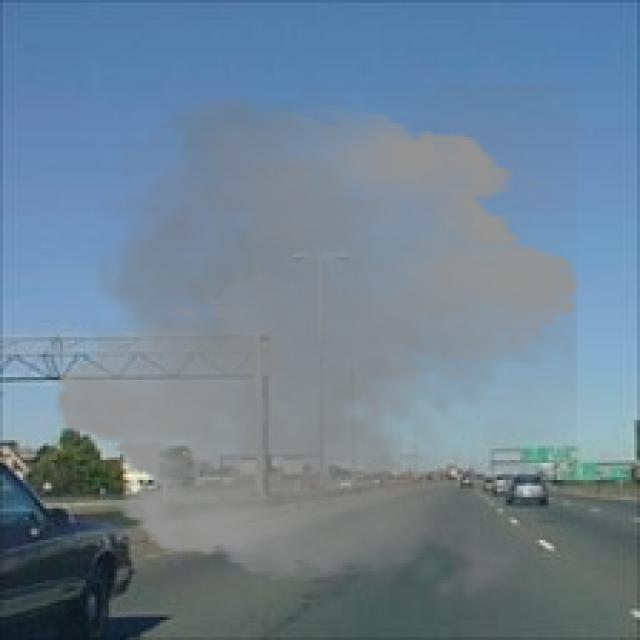Smoke: (37, 82, 597, 618)
